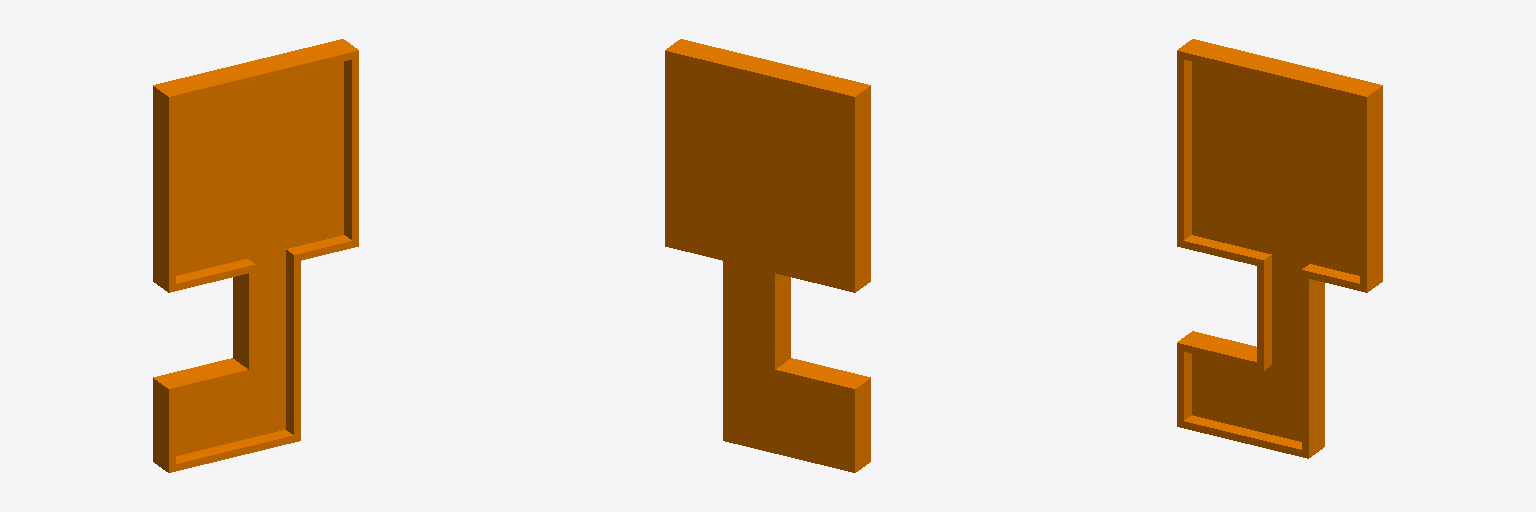
Rendered from STAGE1.obj.
3 renders of one model, left to right at view 1: azimuth 30°, elevation 25°; view 2: azimuth 150°, elevation 25°; view 3: azimuth 330°, elevation 25°, orthographic.
Parts seen in each view (by area): view 1: mesh7, mesh11, mesh17, mesh16, mesh10, mesh19, mesh8, mesh21, mesh20, mesh1, mesh4; view 2: mesh13, mesh17, mesh16, mesh19, mesh21, mesh20; view 3: mesh7, mesh11, mesh15, mesh16, mesh12, mesh5, mesh20, mesh1, mesh3, mesh4.
Part boxes in pixels (x1,y1,x2,y2): mesh7: (176,62,343,455); mesh11: (169,51,358,472); mesh17: (153,86,168,292); mesh16: (153,39,358,96); mesh10: (286,250,293,434); mesh19: (233,273,248,369); mesh8: (344,60,351,239); mesh21: (153,378,168,472); mesh20: (153,358,247,388); mesh1: (176,430,293,463); mesh4: (176,259,255,283); mesh13: (665,51,854,472); mesh17: (855,86,870,292); mesh16: (665,39,870,96); mesh19: (775,273,790,369); mesh21: (855,378,870,472); mesh20: (776,358,870,388); mesh7: (1192,62,1359,441); mesh11: (1177,51,1366,458); mesh15: (1367,86,1382,292); mesh16: (1177,39,1382,96); mesh12: (1309,279,1324,457); mesh5: (1184,60,1191,239); mesh20: (1177,331,1256,361); mesh1: (1184,415,1301,449); mesh3: (1264,255,1271,370); mesh4: (1184,235,1271,259).
Bounding box in the file's own units: 0.1374 × 0.2588 × 0.02.